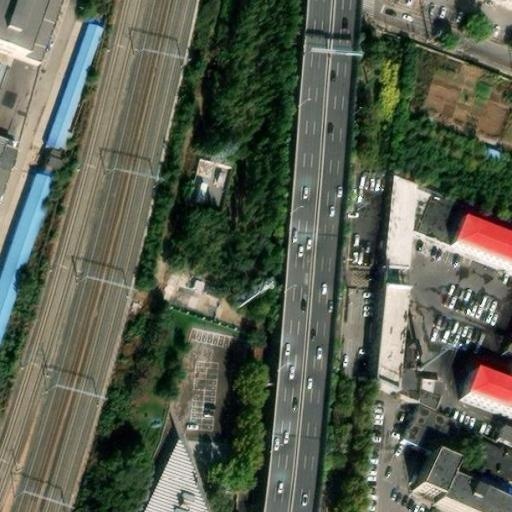building: (40, 21, 98, 155), (408, 454, 508, 512), (445, 215, 512, 273), (139, 446, 195, 512), (378, 181, 410, 296), (398, 397, 458, 457), (369, 293, 403, 397), (18, 0, 62, 75), (185, 152, 231, 207), (466, 469, 512, 505), (230, 271, 276, 306), (0, 133, 17, 197), (492, 427, 512, 453), (481, 140, 503, 160)
